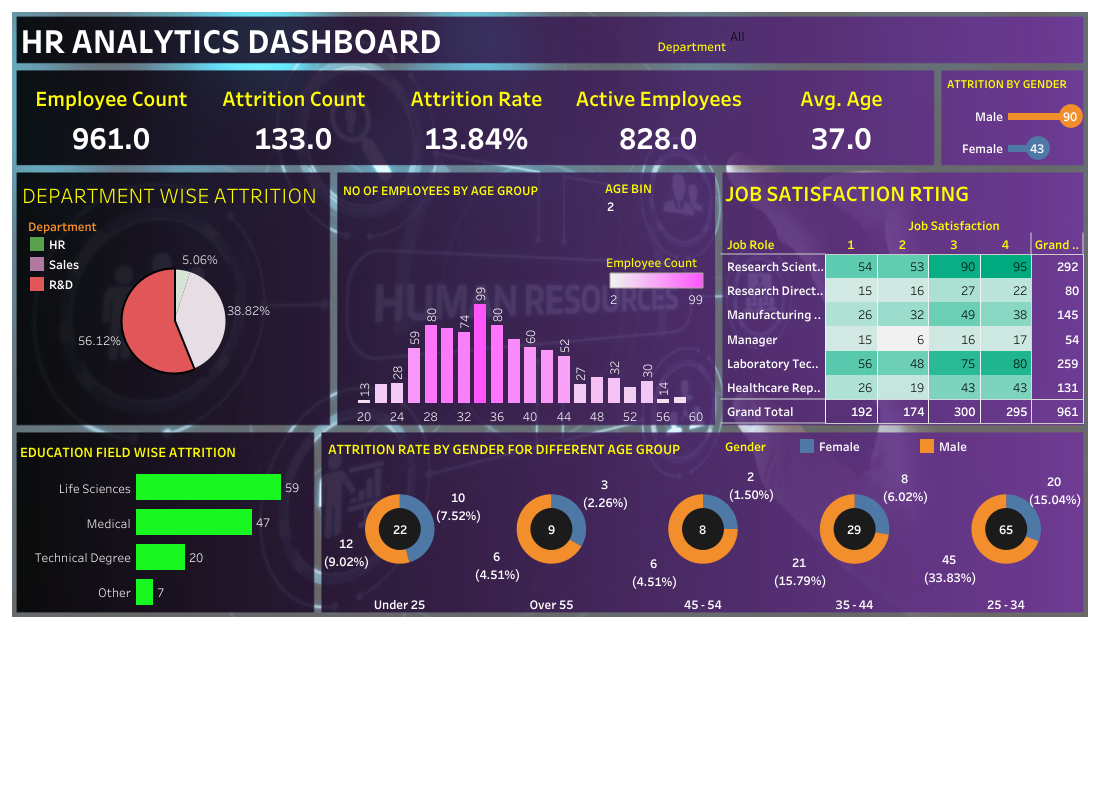

Layout of this report page (visuals, bound fields, positions):
{"tool":"tableau","page":{"name":"Dashboard 1","canvas":[1100,800],"ordinal":0},"visuals":[{"type":"image","param":"Image/HR background.pptx (2).png","box":[8,8,1084,784]},{"type":"text","box":[18,17,728,46]},{"type":"filter","title":"DEPARTMENT WISE ATTRITION","param":"[federated.0uy1m5v0i9wguj15l0igj0en1a3q].[none:Department:nk]","box":[656,27,284,37]},{"type":"worksheet","title":"ATTRITION BY GENDER","mark":"Automatic","rows":["Gender"],"cols":["Calculation_365917519100985344","Calculation_365917519100985344"],"box":[928,70,159,94]},{"type":"worksheet","title":"KPI","mark":"Automatic","box":[20,72,913,91]},{"type":"worksheet","title":"JOB SATISFACTION RATING","mark":"Square","rows":["Job Role"],"cols":["Job Satisfaction"],"box":[721,173,363,251]},{"type":"worksheet","title":"DEPARTMENT WISE ATTRITION","mark":"Pie","box":[18,175,312,249]},{"type":"worksheet","title":"NO OF EMPLOYEES BY AGE GROPU","mark":"Automatic","rows":["Employee Count"],"cols":["Age (bin)"],"box":[339,175,366,250]},{"type":"parameter","param":"[Parameters].[Parameter 1]","box":[605,178,108,67]},{"type":"legend","title":"DEPARTMENT WISE ATTRITION","param":"[federated.0uy1m5v0i9wguj15l0igj0en1a3q].[none:Department:nk]","box":[27,215,94,78]},{"type":"legend","title":"NO OF EMPLOYEES BY AGE GROPU","param":"[federated.0uy1m5v0i9wguj15l0igj0en1a3q].[sum:Employee Count:qk]","box":[606,249,102,58]},{"type":"worksheet","title":"ATTRITION RATE BY GENDER DOR DIFFERENT AGE GROUP","mark":"Pie","rows":["Calculation_844706454904078339","Calculation_844706454904078339"],"cols":["CF_age band"],"box":[324,433,758,180]},{"type":"worksheet","title":"EDUCATION FIELD WISE ATTRITION","mark":"Automatic","rows":["Education Field"],"cols":["Calculation_365917519100985344"],"box":[16,436,297,173]},{"type":"legend","title":"ATTRITION RATE BY GENDER DOR DIFFERENT AGE GROUP","param":"[federated.0uy1m5v0i9wguj15l0igj0en1a3q].[none:Gender:nk]","box":[725,436,335,33]}]}

Visuals, with their boxes in screenshot pixels (x1, y1, x2, y2), scaled from the page's 1100x800 canvas onto the 1099x799 screenshot:
image: bbox(8, 8, 1091, 791)
text: bbox(18, 17, 745, 63)
"DEPARTMENT WISE ATTRITION" filter: bbox(655, 27, 939, 64)
"ATTRITION BY GENDER" worksheet: bbox(927, 70, 1086, 164)
"KPI" worksheet: bbox(20, 72, 932, 163)
"JOB SATISFACTION RATING" worksheet (Square marks): bbox(720, 173, 1083, 423)
"DEPARTMENT WISE ATTRITION" worksheet (Pie marks): bbox(18, 175, 330, 423)
"NO OF EMPLOYEES BY AGE GROPU" worksheet: bbox(339, 175, 704, 424)
parameter: bbox(604, 178, 712, 245)
"DEPARTMENT WISE ATTRITION" legend: bbox(27, 215, 121, 293)
"NO OF EMPLOYEES BY AGE GROPU" legend: bbox(605, 249, 707, 307)
"ATTRITION RATE BY GENDER DOR DIFFERENT AGE GROUP" worksheet (Pie marks): bbox(324, 432, 1081, 612)
"EDUCATION FIELD WISE ATTRITION" worksheet: bbox(16, 435, 313, 608)
"ATTRITION RATE BY GENDER DOR DIFFERENT AGE GROUP" legend: bbox(724, 435, 1059, 468)
